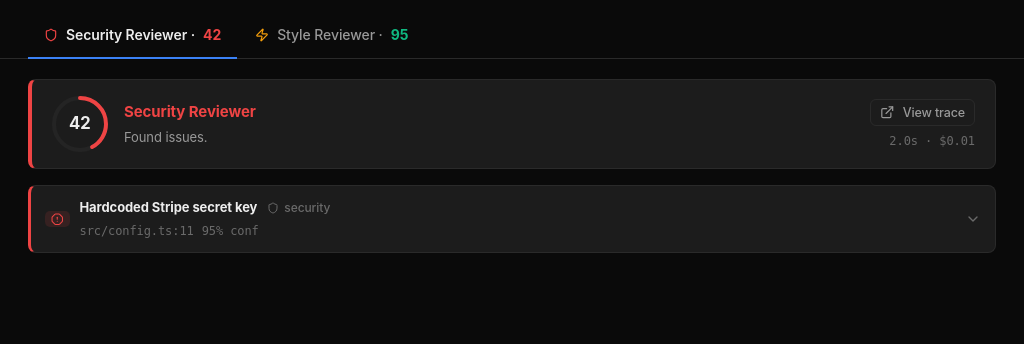
Test: MultiAgentTabs › shows one tab per agent with score/finding count, and switches lists on selection
The image size is (1024, 344).
Expected: the button "Security Reviewer · 42" is shown, top-left (28, 12), bottom-right (237, 59)
Expected: the text "Hardcoded Stripe secret key" is shown, top-left (80, 198), bottom-right (257, 218)
Click the button "Style Reviewer · 95" at [332, 36], box top-left (239, 12), bottom-right (424, 59)
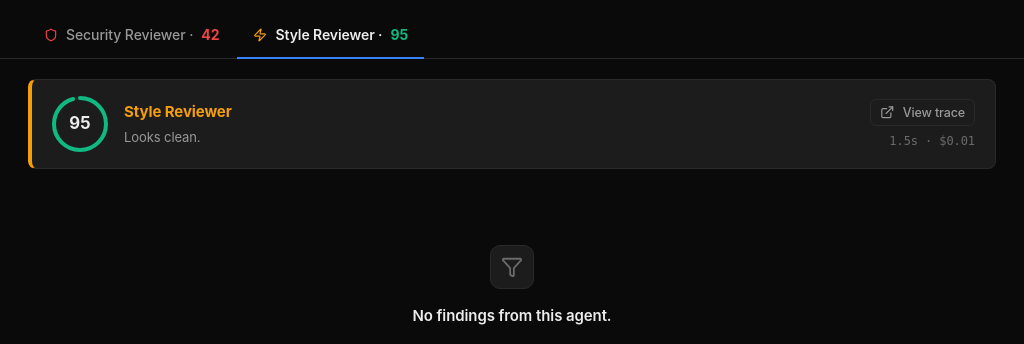
Expected: the text "Hardcoded Stripe secret key" is gone
Expected: the text "No findings from this agent." is shown, top-left (412, 305), bottom-right (612, 328)
